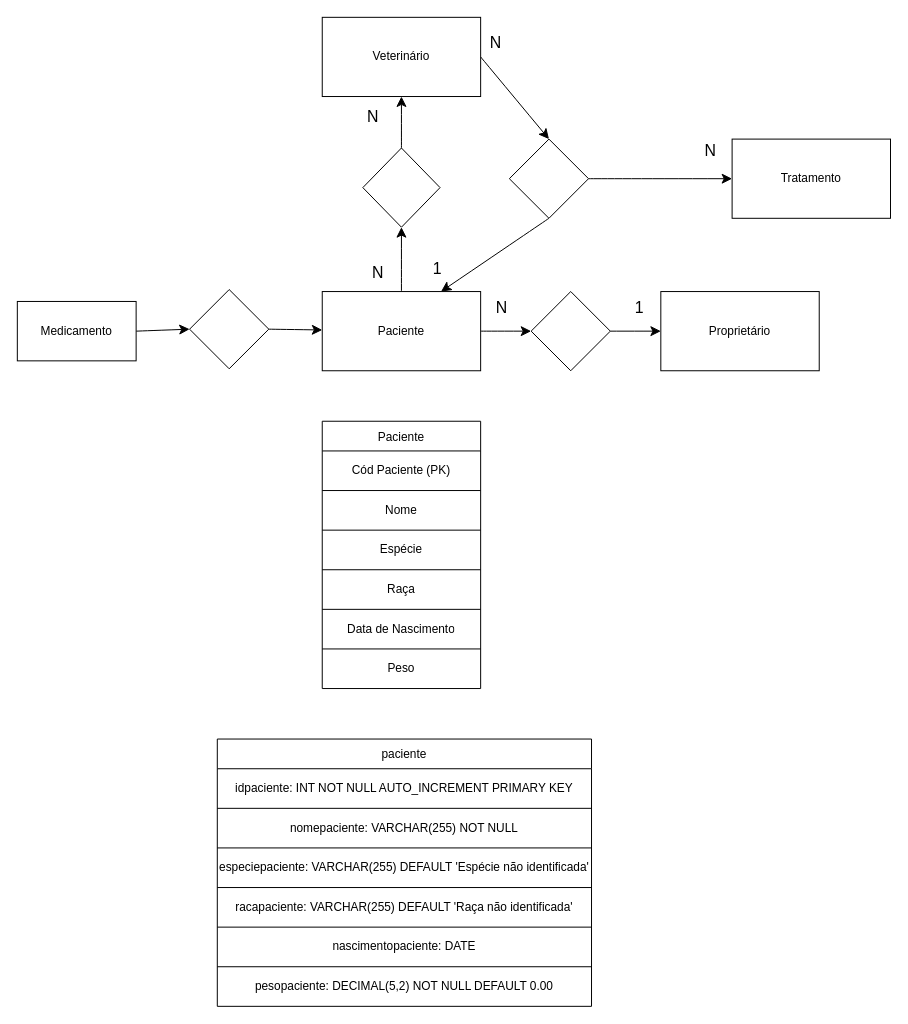
Some shapes in this 908 by 1024 pixel diagram are drawn without their labels. The shapes that lost their labels are listed below. From the top down, each one's centre as x and y in pixels, then its label:
pixel 401 187: Consulta
pixel 548 178: Prescrito
pixel 229 329: Receitado
pixel 570 331: é dono
